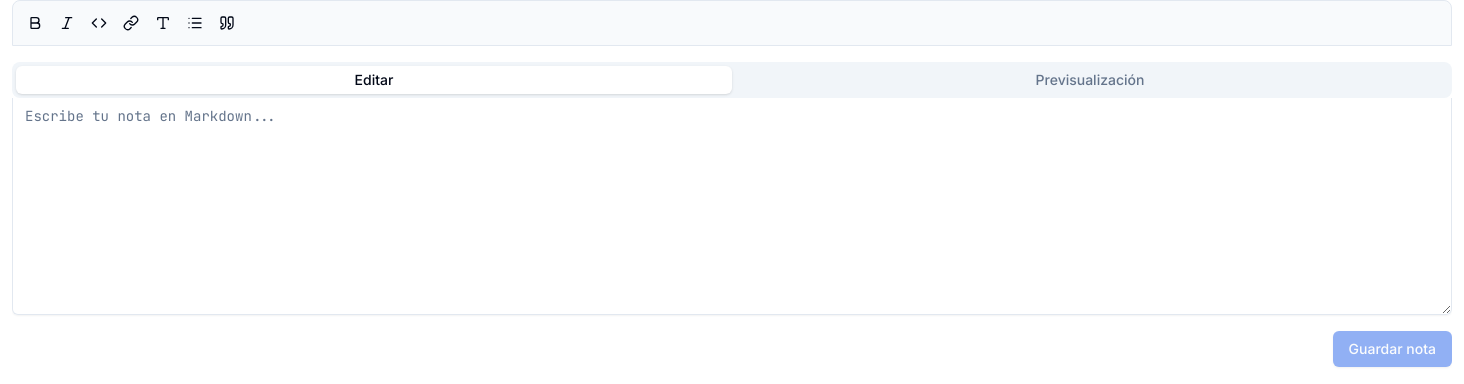
Test case: NoteEditor › switches between edit and preview tabs
expect the panel named "editar" is shown: met, box [12,98,1452,315]
# Switch to preview
Click the tab "Previsualización": (1090, 80) [732,66,1448,94]
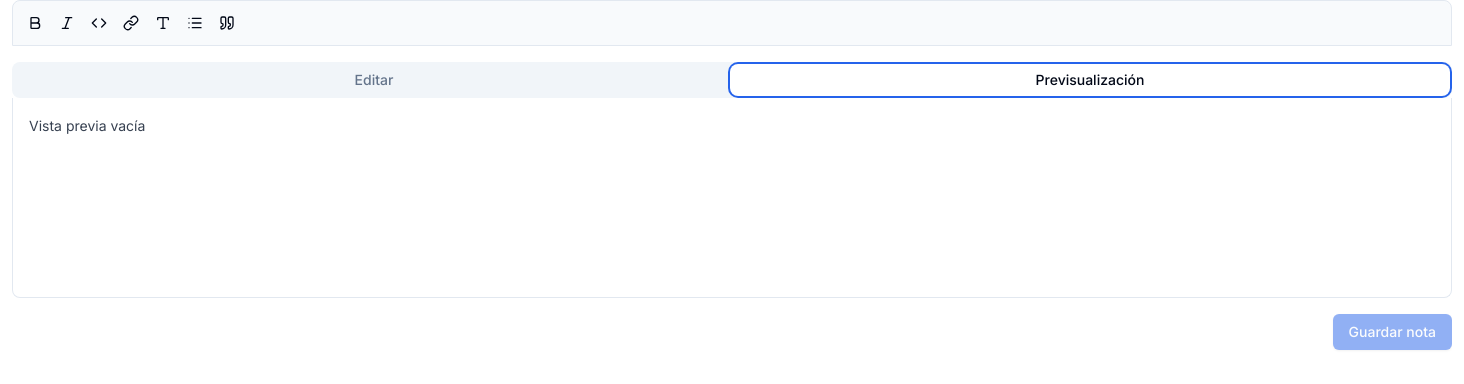
expect the panel named "previsualización" is shown: met, box [12,98,1452,298]
